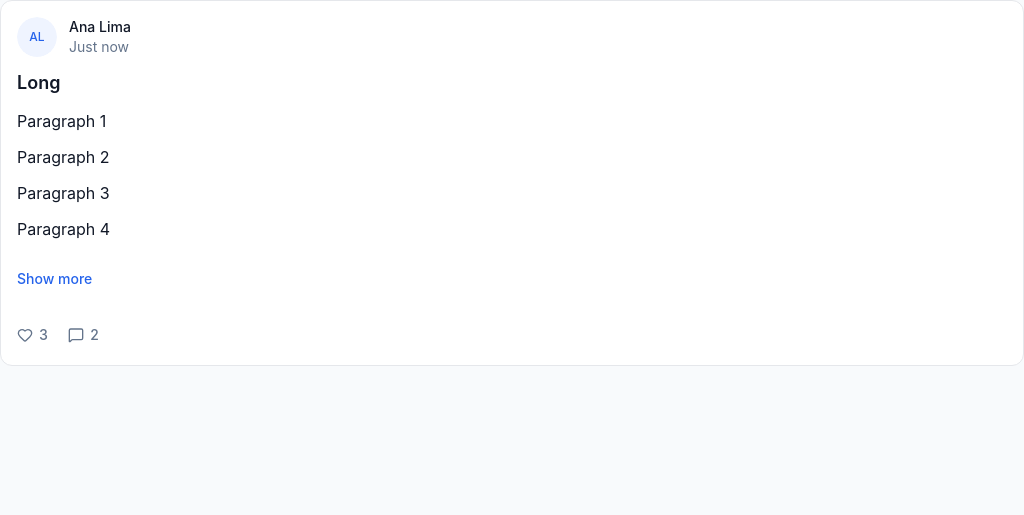
Test: CommunityPost › collapses long bodies behind Show more
The width and height of the screenshot is (1024, 515).
Click the button "Show more".
click(55, 279)  # box 17,257 -> 92,301
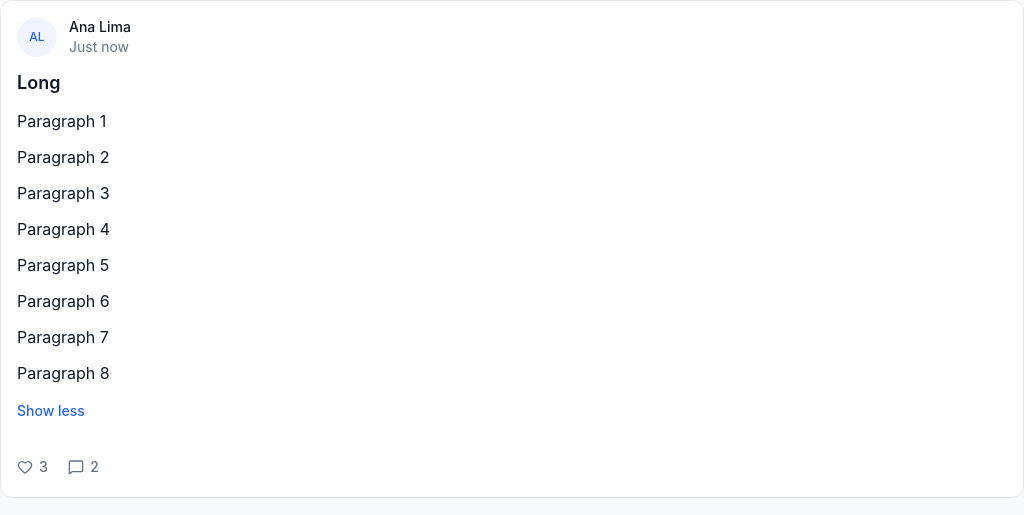
Check: the button "Show less" is expanded, box 17,389 -> 85,433
